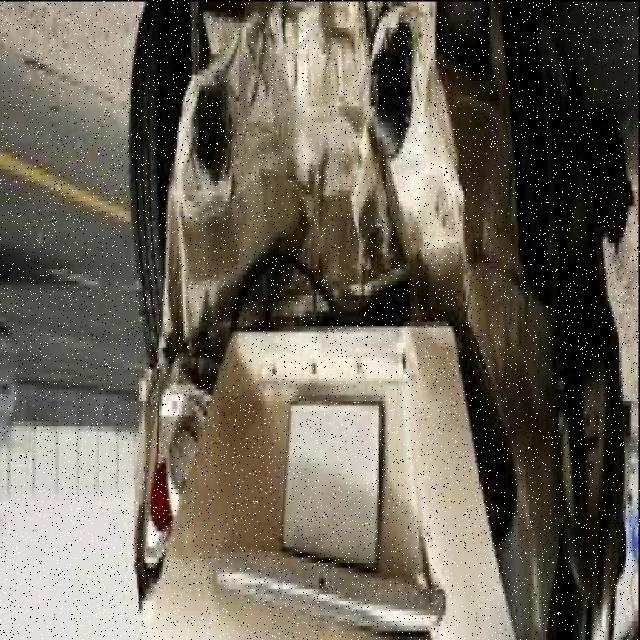damage: (134, 0, 625, 630)
